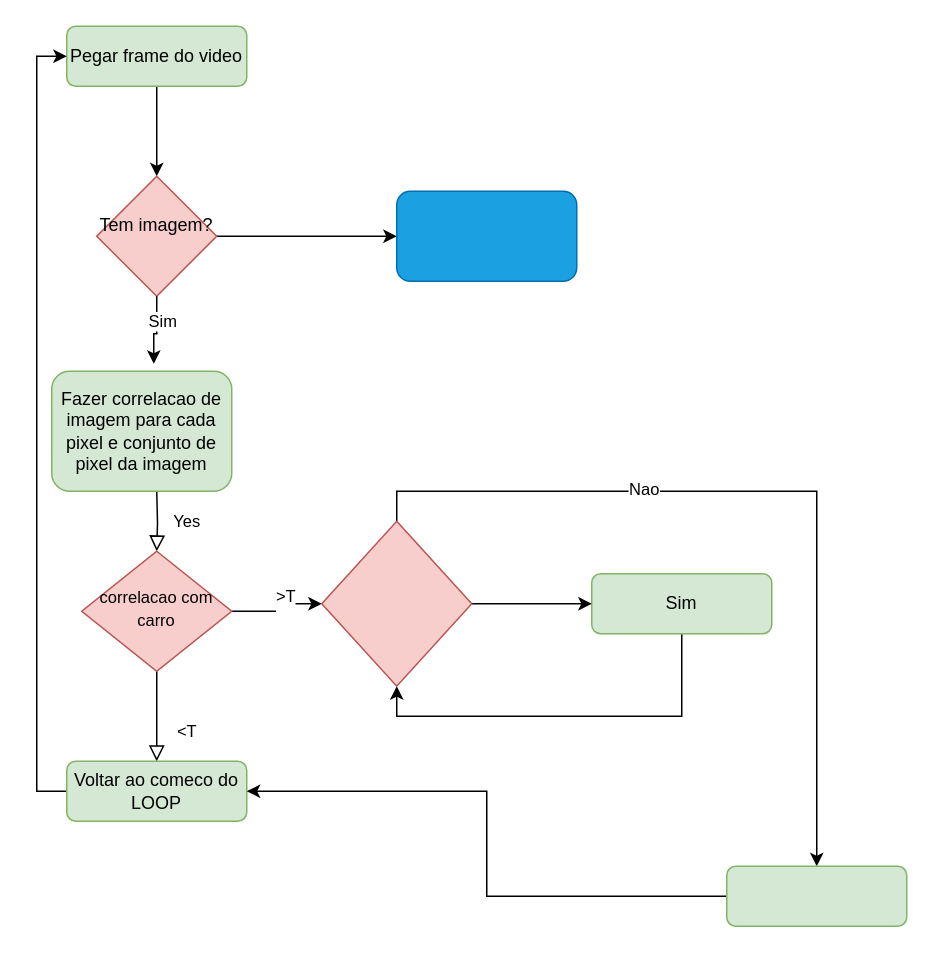
Some shapes in this 933 by 953 pixel diagram are drawn without their labels. Each missing label, with the centre of its shape:
"Adicionar 1 ao contador de carros" goes at (x=816, y=895).
"FIM!" goes at (x=486, y=235).
"No FOV?" goes at (x=396, y=603).
